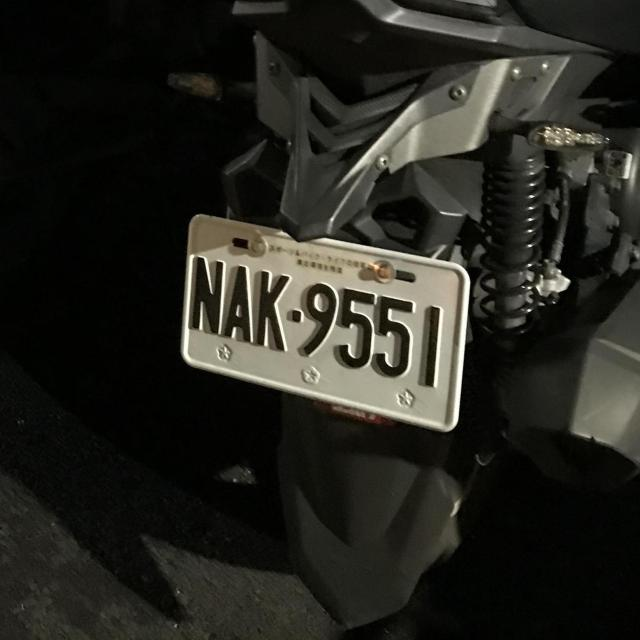W: (162, 211, 480, 438)
